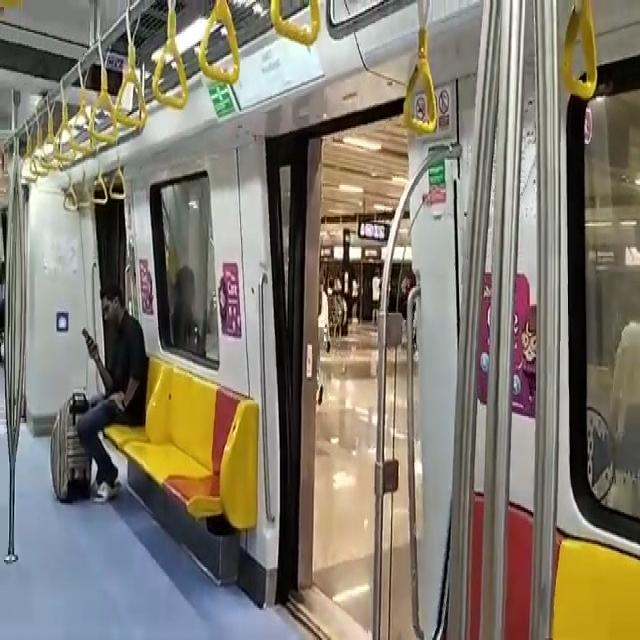bus-door: (261, 110, 430, 640)
